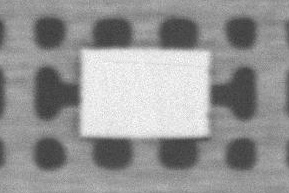DIE_CRACK: (156, 41, 289, 44)
